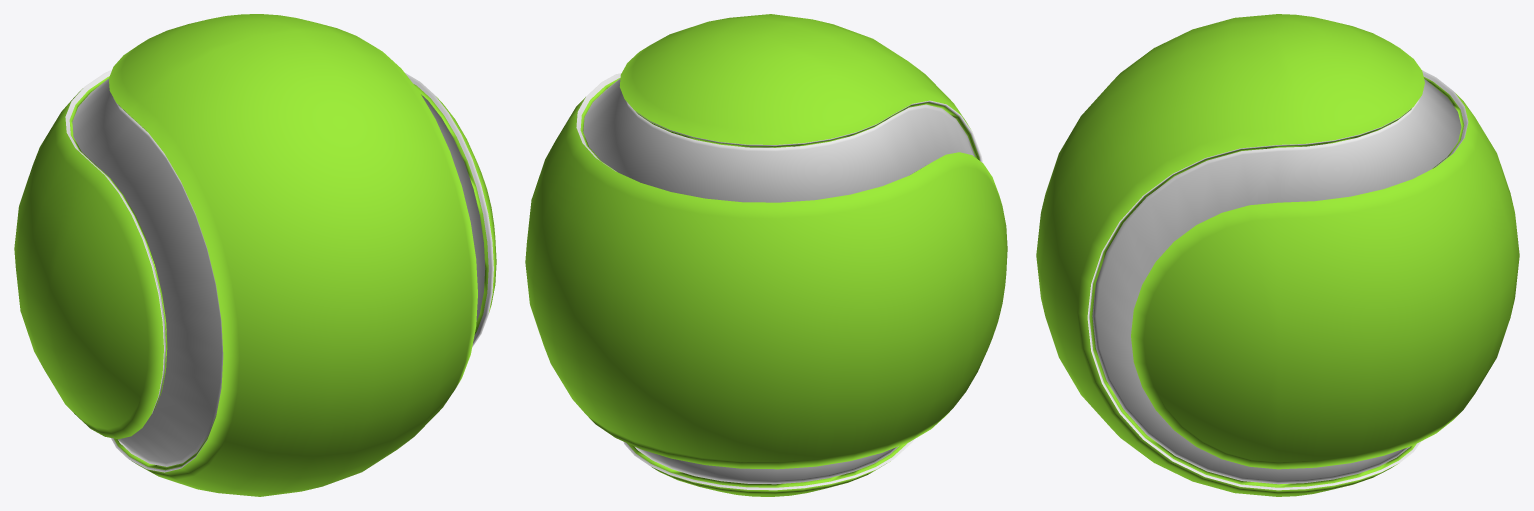
The model's file is tennis_ball.glb.
The picture shows the model from 3 angles, left to right: view 1: azimuth 30°, elevation 25°; view 2: azimuth 150°, elevation 25°; view 3: azimuth 270°, elevation 25°; orthographic projection.
Visible parts, largest first — view 1: Sphere; view 2: Sphere; view 3: Sphere.
Boxes of the visible parts, x1,y1,x2,y2 form: Sphere: (14, 14, 496, 496); Sphere: (525, 14, 1007, 496); Sphere: (1036, 14, 1519, 496).
Size of the model in its own units: 2 by 2 by 2.
